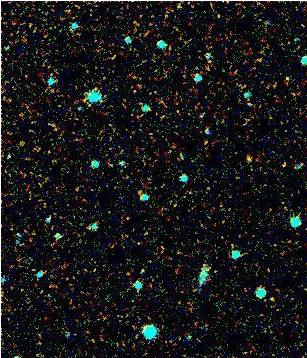star: (234, 145, 264, 175)
